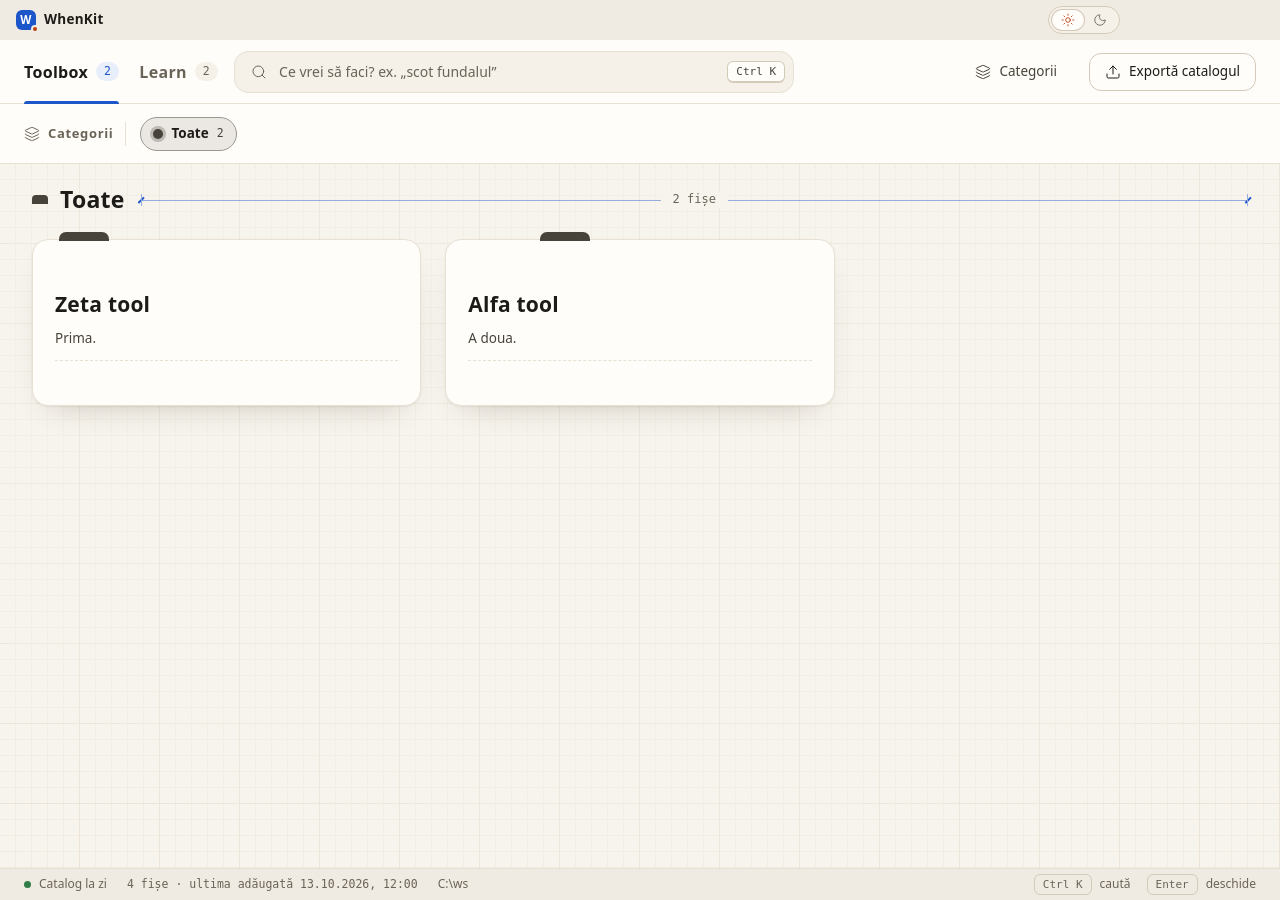
Test case: App › shows Toolbox first and switches zones, keeping the snapshot order
Check: the headings read "Zeta tool", "Alfa tool", in this order, box [55,290,150,318]; [468,290,559,318]
Check: the text "Prima." is shown, box [55,329,96,347]
Click the tab "Learn 2": point(179, 72) [139,40,218,103]
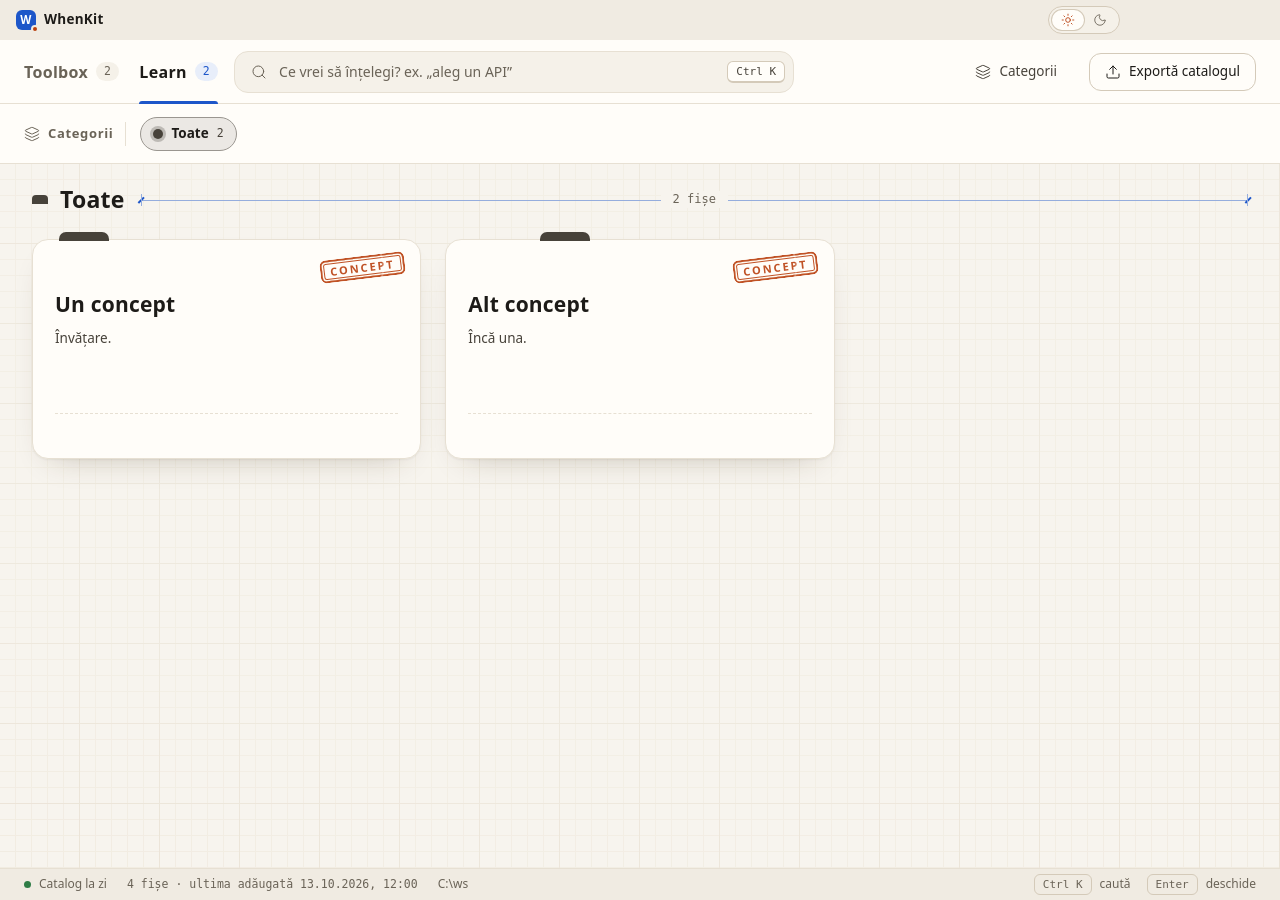
Check: the headings read "Un concept", "Alt concept", in this order, box [55,290,175,318]; [468,290,589,318]
